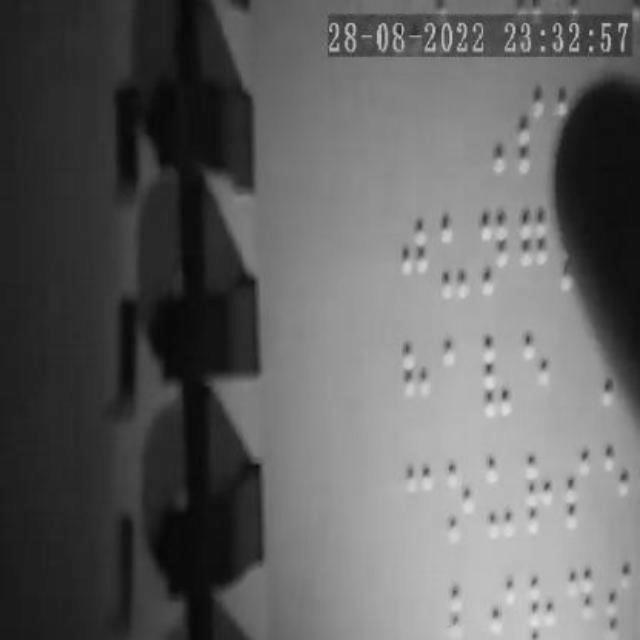braiile: (512, 78, 552, 174), (436, 210, 472, 304), (477, 200, 513, 290), (518, 202, 554, 288), (484, 454, 520, 540), (398, 214, 432, 302), (480, 330, 512, 420), (566, 439, 596, 535), (442, 456, 476, 540), (402, 338, 434, 427), (525, 448, 557, 536), (603, 440, 633, 530), (521, 328, 551, 416), (405, 459, 435, 545), (442, 333, 474, 411), (568, 562, 598, 640)
